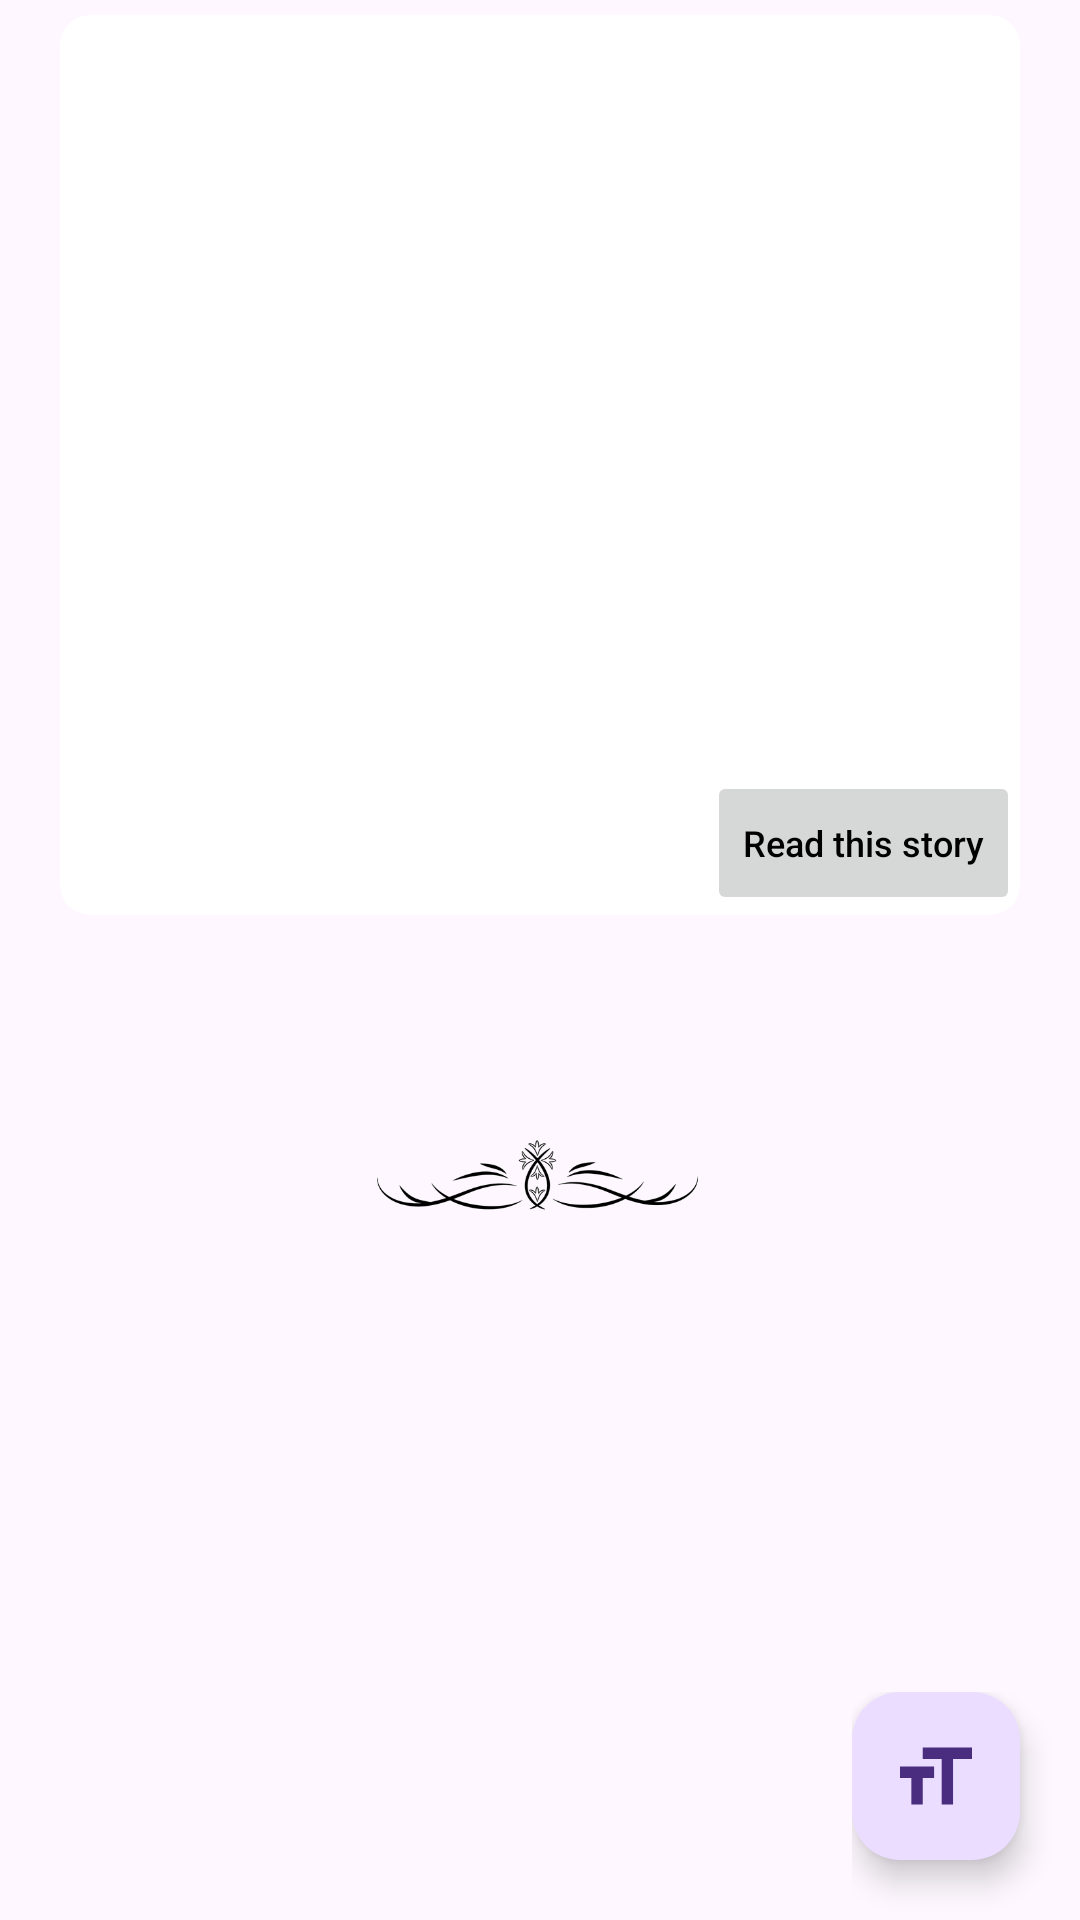

Point at icon controls on the screen. Image size 1080x1920, points as point (x, y).
font size: point (936, 1776)
